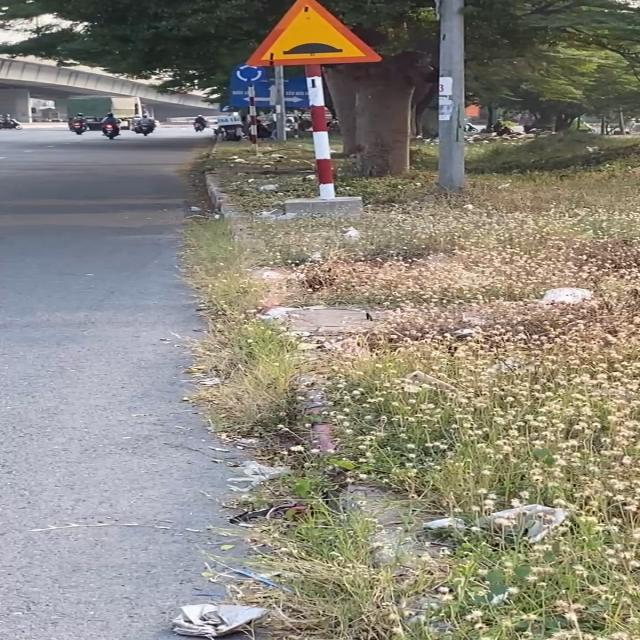221-duong-go-ghe: (244, 0, 383, 70)
303-noi-giao-nhau-chay-theo-vong-xuyen: (234, 62, 266, 84)
